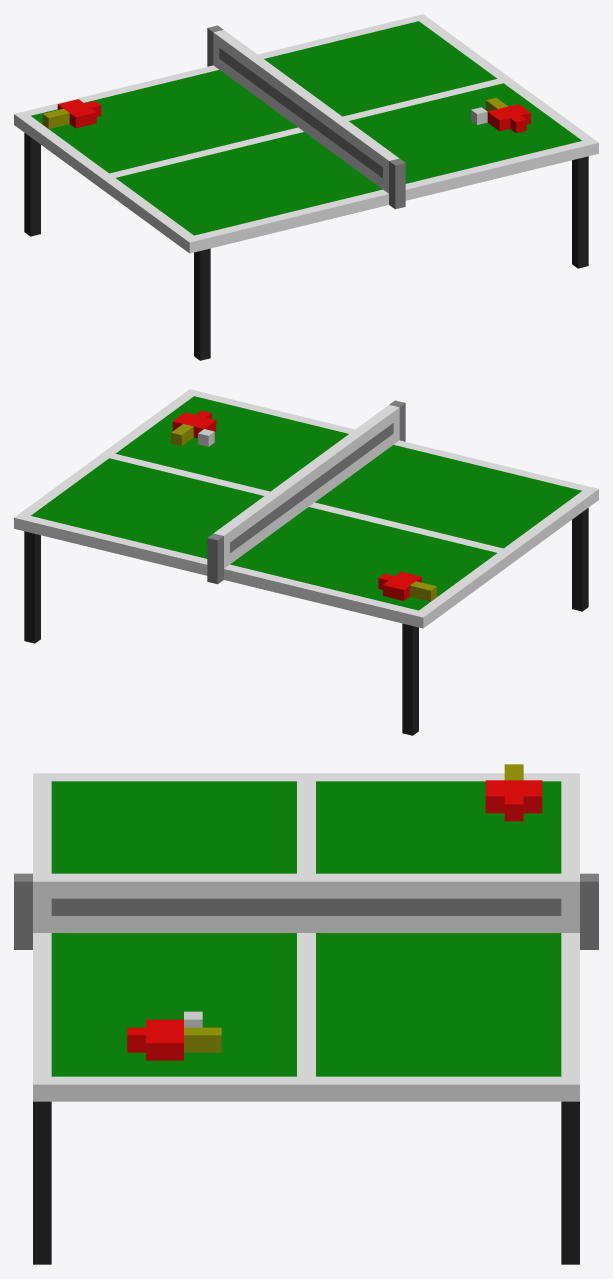
File: ping-pong-table.obj
3 renders of one model, top to bottom at view 1: azimuth 30°, elevation 25°; view 2: azimuth 150°, elevation 25°; view 3: azimuth 270°, elevation 25°, orthographic. The views are drawn at different scales.
Parts seen in each view (by area): view 1: ping-pong-table; view 2: ping-pong-table; view 3: ping-pong-table.
Part boxes in pixels (left/top/right/bottom): ping-pong-table: left=14, top=14, right=598, bottom=360; ping-pong-table: left=14, top=389, right=598, bottom=735; ping-pong-table: left=14, top=764, right=598, bottom=1264.
Bounding box in the file's own units: 39 × 14 × 31.
Materials: 1 (1 with a texture image).
